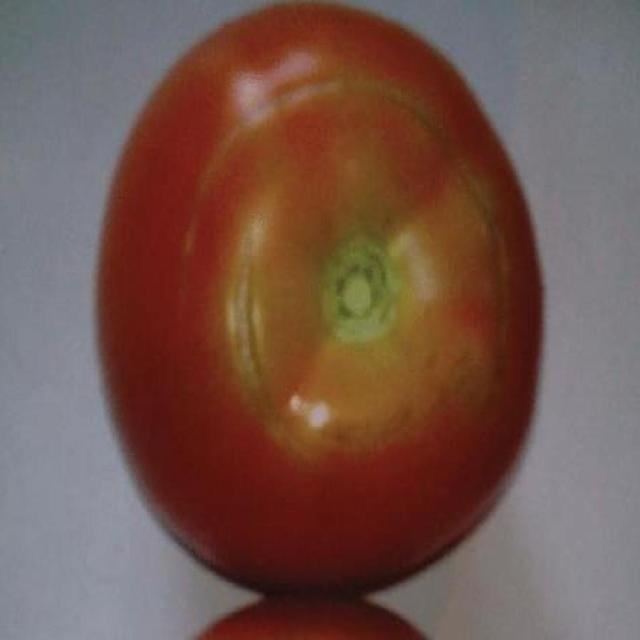Cracking Fruit: (74, 176, 242, 270)
